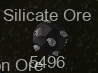Silicate: (3, 8, 92, 68)
